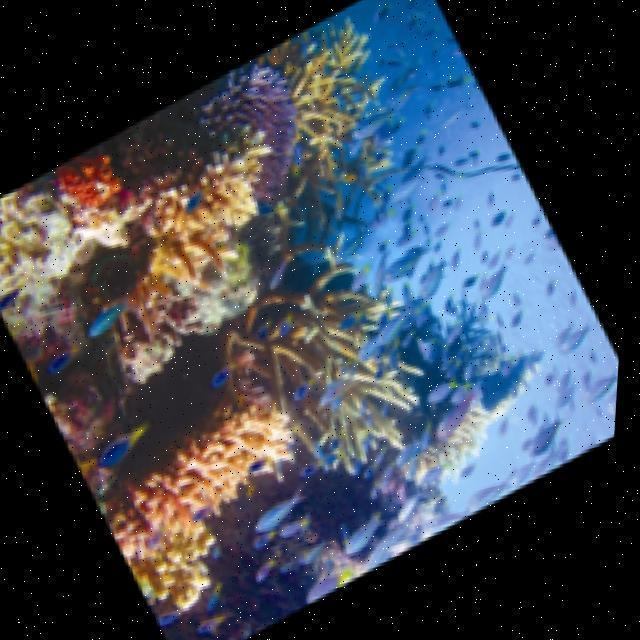Bleached Coral: (404, 392, 521, 493)
Healthy Coral: (78, 356, 346, 616), (108, 114, 309, 324), (248, 273, 436, 491), (191, 49, 340, 228), (279, 32, 422, 185), (111, 516, 248, 634), (38, 142, 148, 238)
